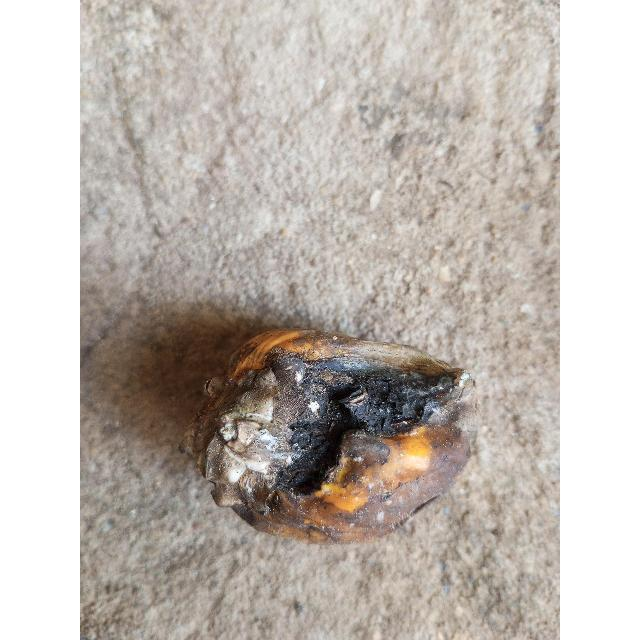damaged: (195, 332, 472, 548)
